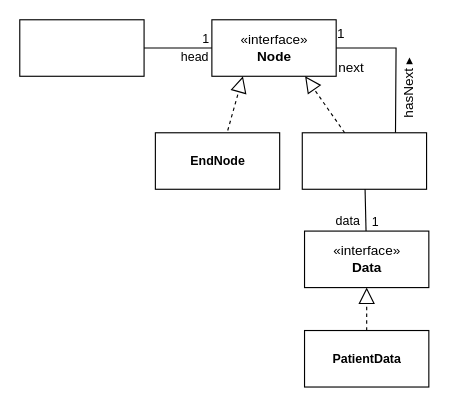
Image size: 449x407. Some labels were removed from this diagram. The shapes that lost their labels are listed below. From the top down, each one's centre as x and y in pixels, then its label:
At pixel 81 47: "List".
At pixel 364 160: "InnerNode".
